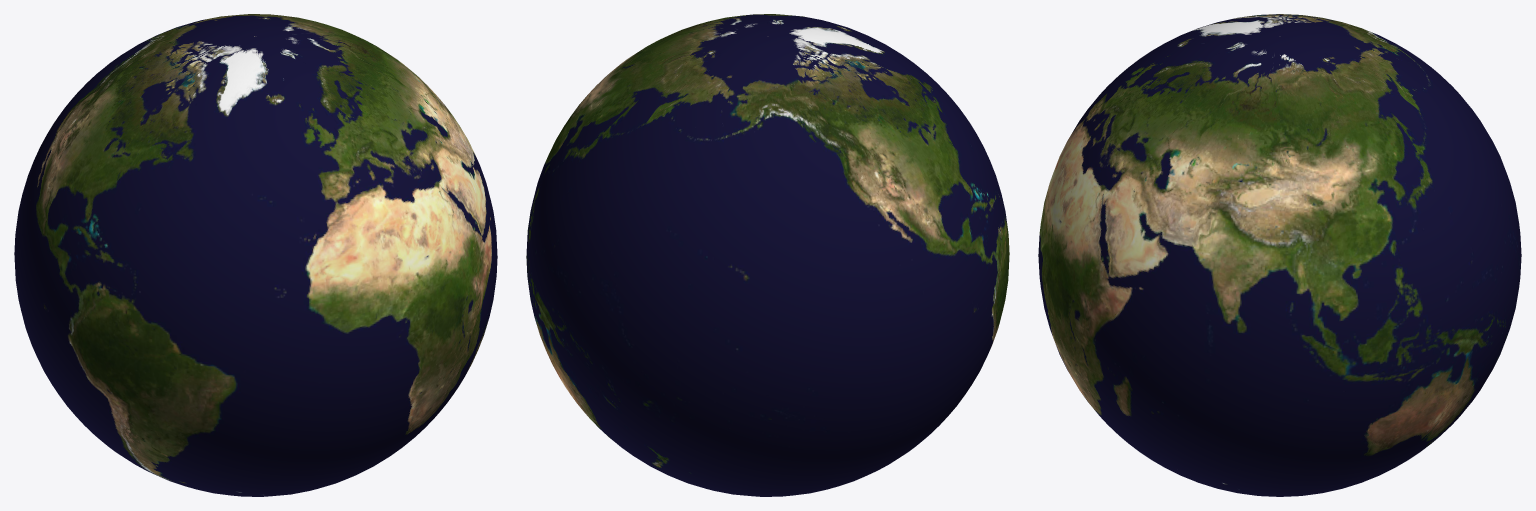
File: earth_millionth_scale.glb
3 views of the same model, side by side, from view 1: azimuth 30°, elevation 25°; view 2: azimuth 150°, elevation 25°; view 3: azimuth 270°, elevation 25° (orthographic).
Visible parts, largest first — view 1: EarthMesh; view 2: EarthMesh; view 3: EarthMesh.
Part boxes in pixels (bbox=[...]): EarthMesh: bbox=[14, 14, 497, 496]; EarthMesh: bbox=[526, 14, 1009, 496]; EarthMesh: bbox=[1038, 14, 1521, 496].
Size of the model in its own units: 12.76 by 12.76 by 12.76.
1 material, 1 textured.
